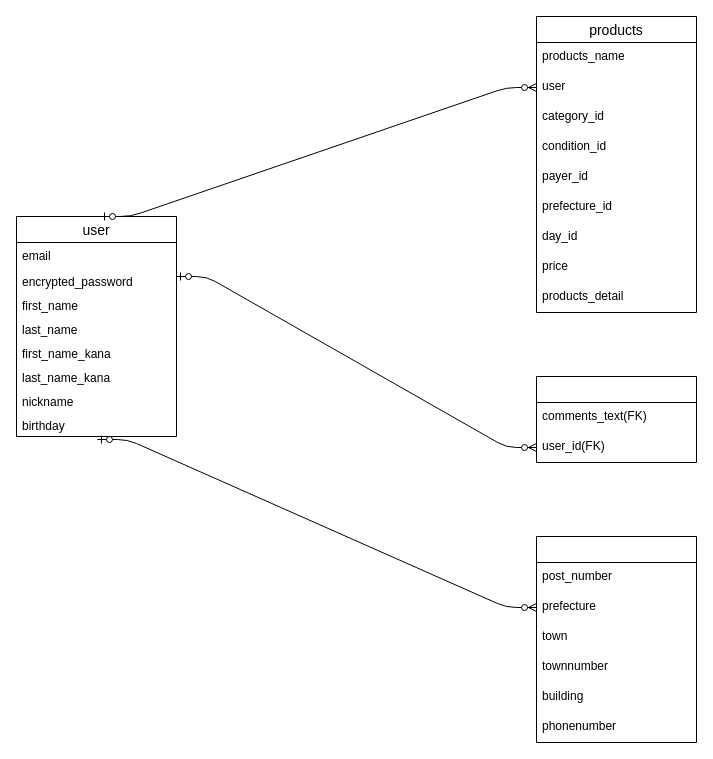
This 713x759 diagram has some shape labels left out. The shapes that lost their labels are listed below. From the top down, each one's box as (x1, y1, x2, y2) in pixels, then its label:
(536, 376, 696, 462): buy_records
(536, 536, 696, 742): address
